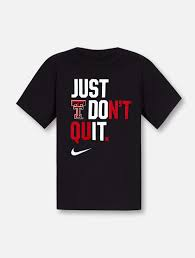nike: (67, 145, 102, 166)
